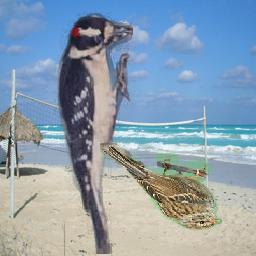Sparrow: (100, 144, 222, 231)
Woodpecker: (55, 10, 134, 255)
